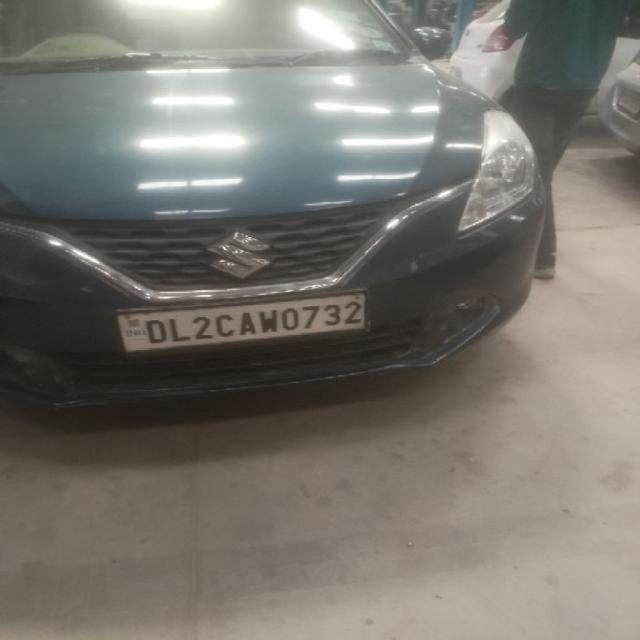license_plate: (114, 290, 370, 355)
